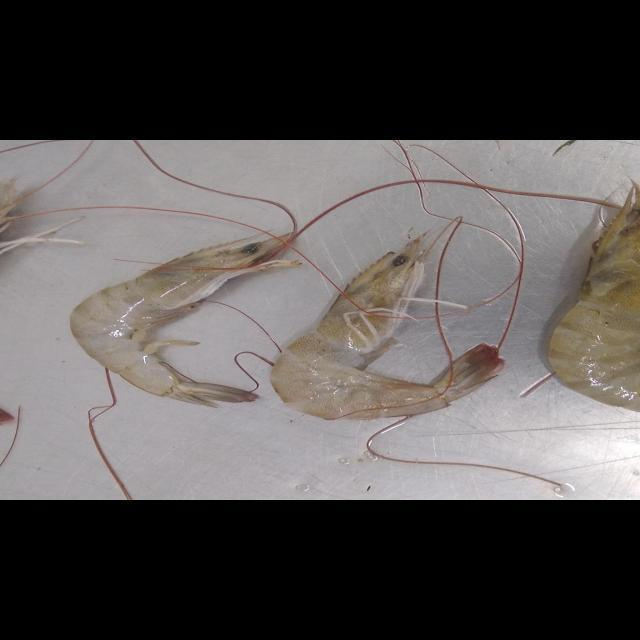shrimp: (271, 236, 502, 420), (69, 235, 300, 408), (547, 185, 640, 412)
